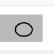no answer: (12, 19, 36, 40)
